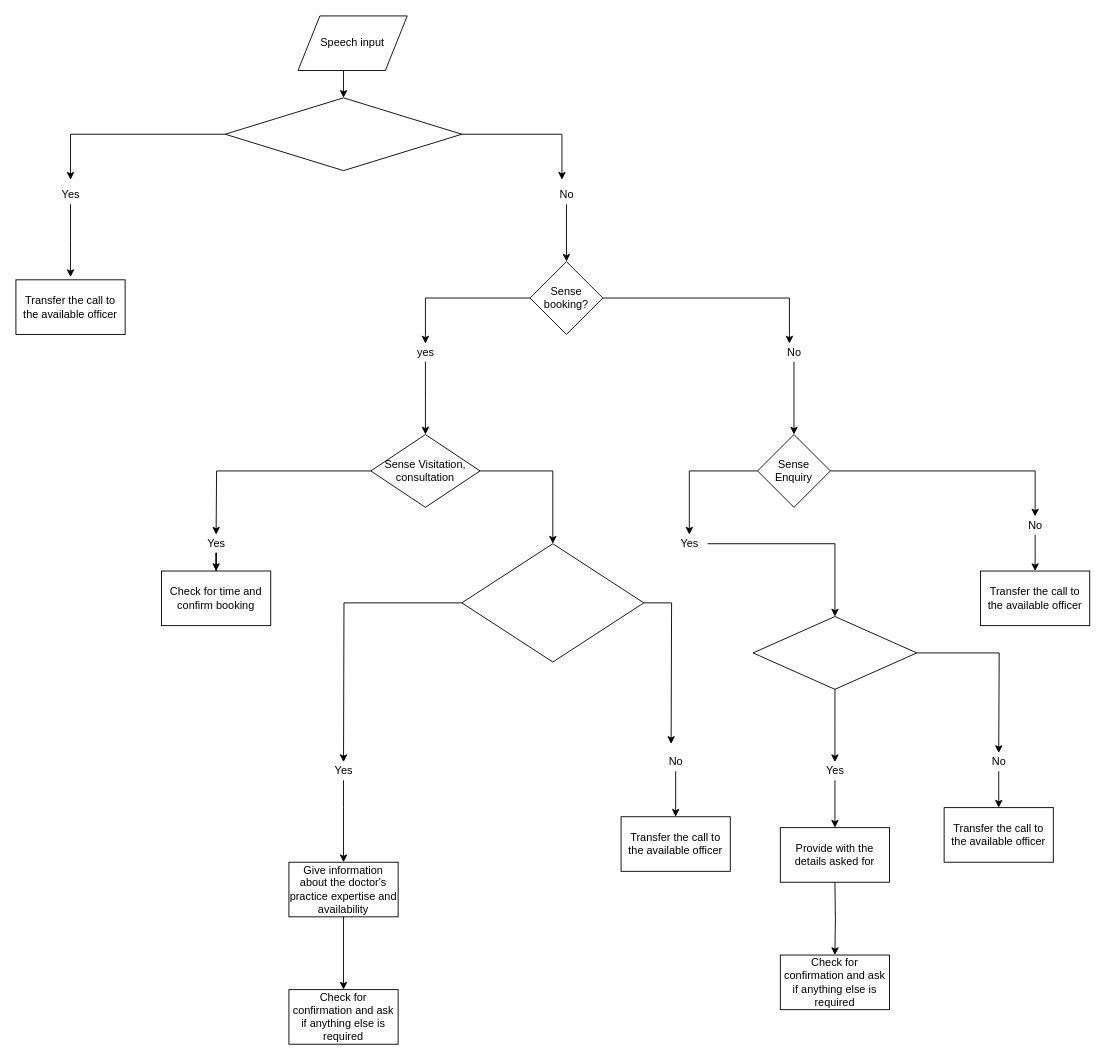
Some shapes in this 1106 by 1060 pixel diagram are drawn without their labels. Here are the shapes that lost their labels. From the top down, the box of each, then its label:
(224, 97, 462, 171): sense urgency in the speech, ex( urgent, important, ASAP, now, etc)
(461, 543, 644, 662): Sense any detailed requirement about doctors list/availability/expertise
(752, 616, 917, 689): Sense any specific requirement
